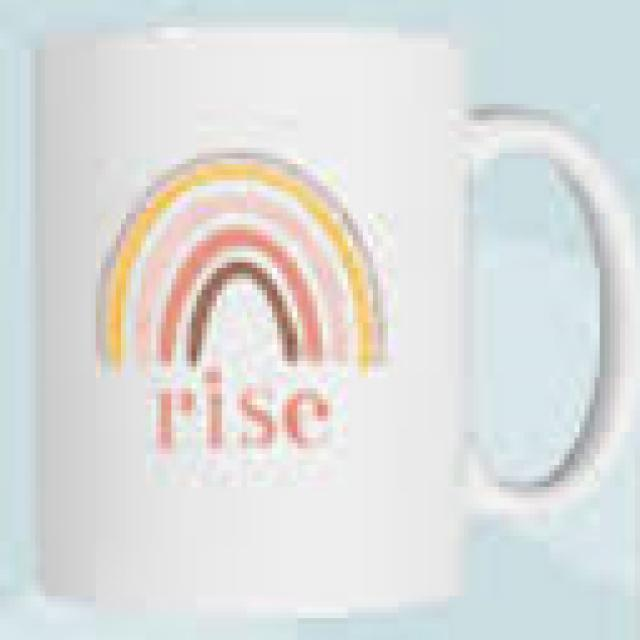taza: (28, 31, 640, 601)
